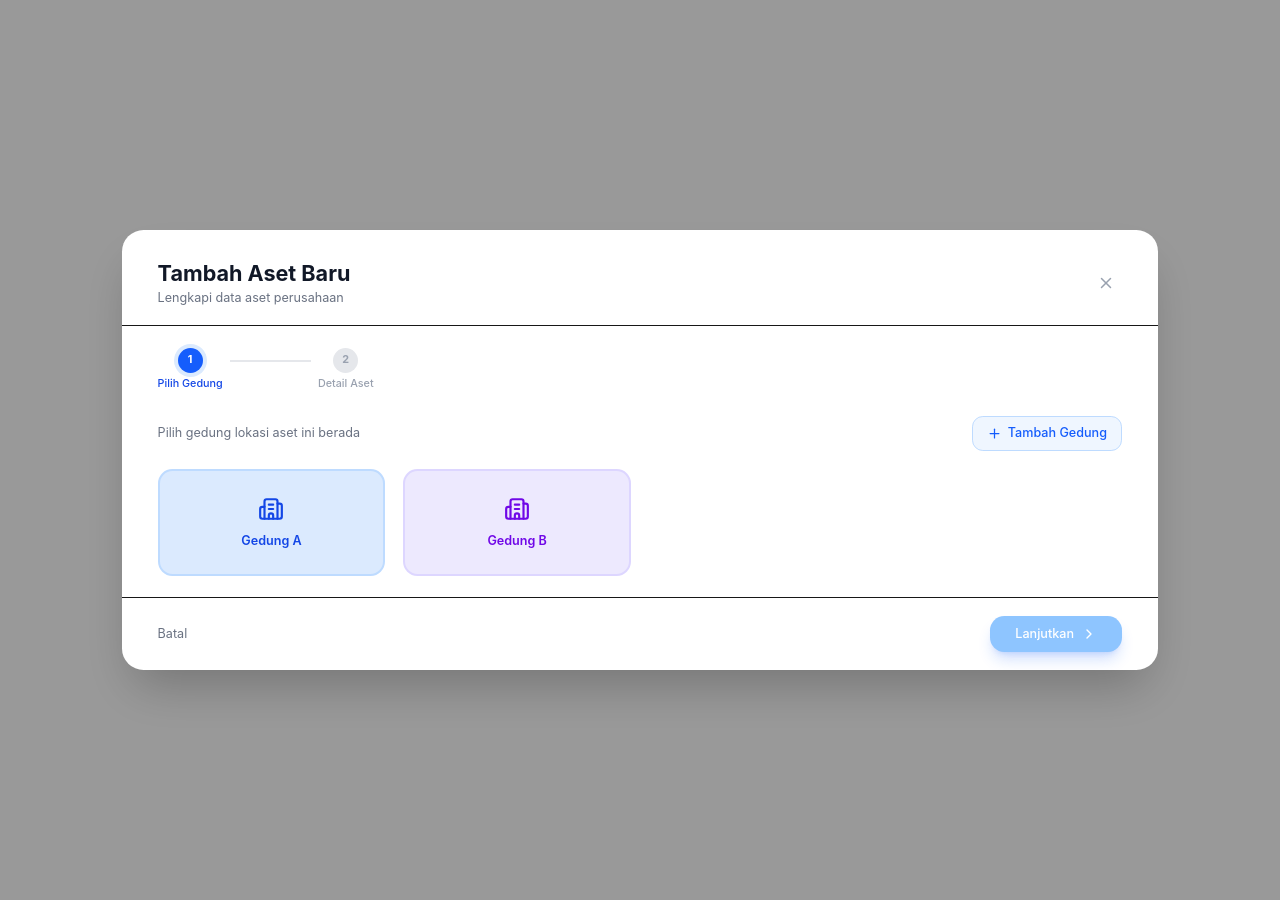
Test case: AddAssetModal — cascading classification dropdowns › disables downstream dropdowns until their parent selection is made
Expected: the text "Gedung A" is shown, [241, 533, 302, 548]
Click the button "Gedung A".
click(271, 522)  # box [158, 469, 385, 576]
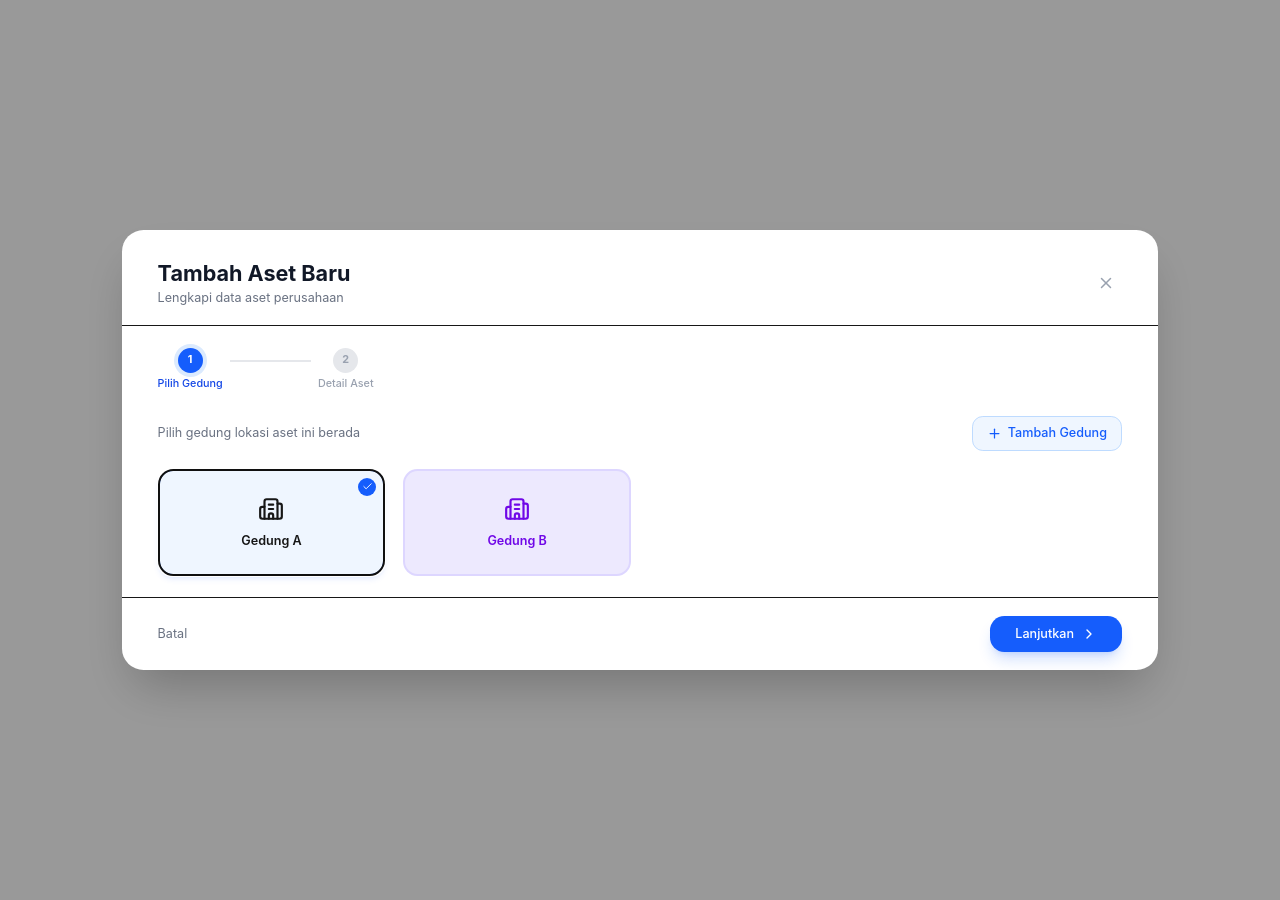
Click the button "Lanjutkan".
click(1056, 634)  # box [990, 616, 1122, 652]
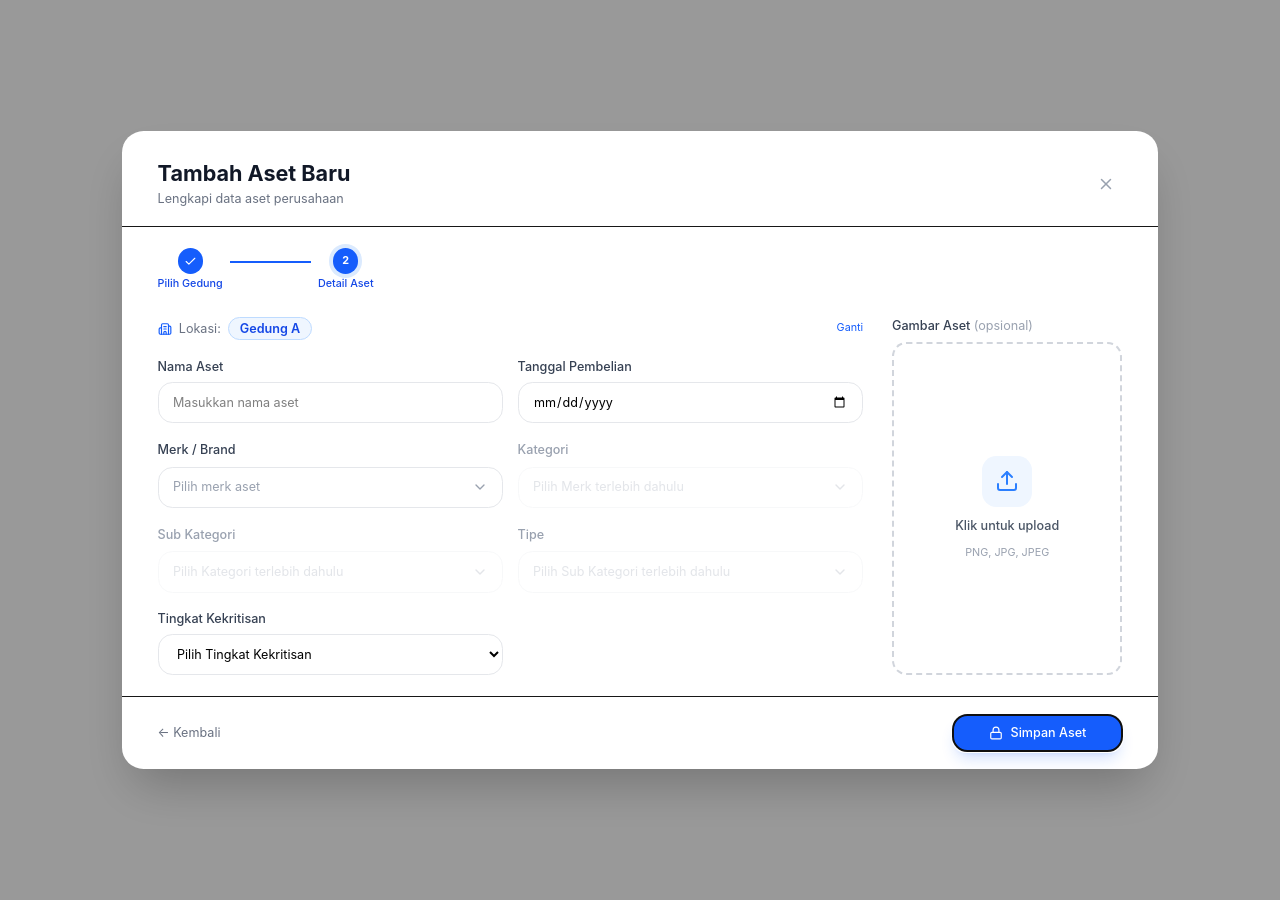
Result: the text "Nama Aset" is shown at [158, 359, 223, 374]
Result: the button "Pilih Sub Kategori terlebih dahulu" is disabled at [518, 551, 863, 593]
Click the button "Pilih merk aset".
click(217, 487)  # box [158, 467, 503, 508]
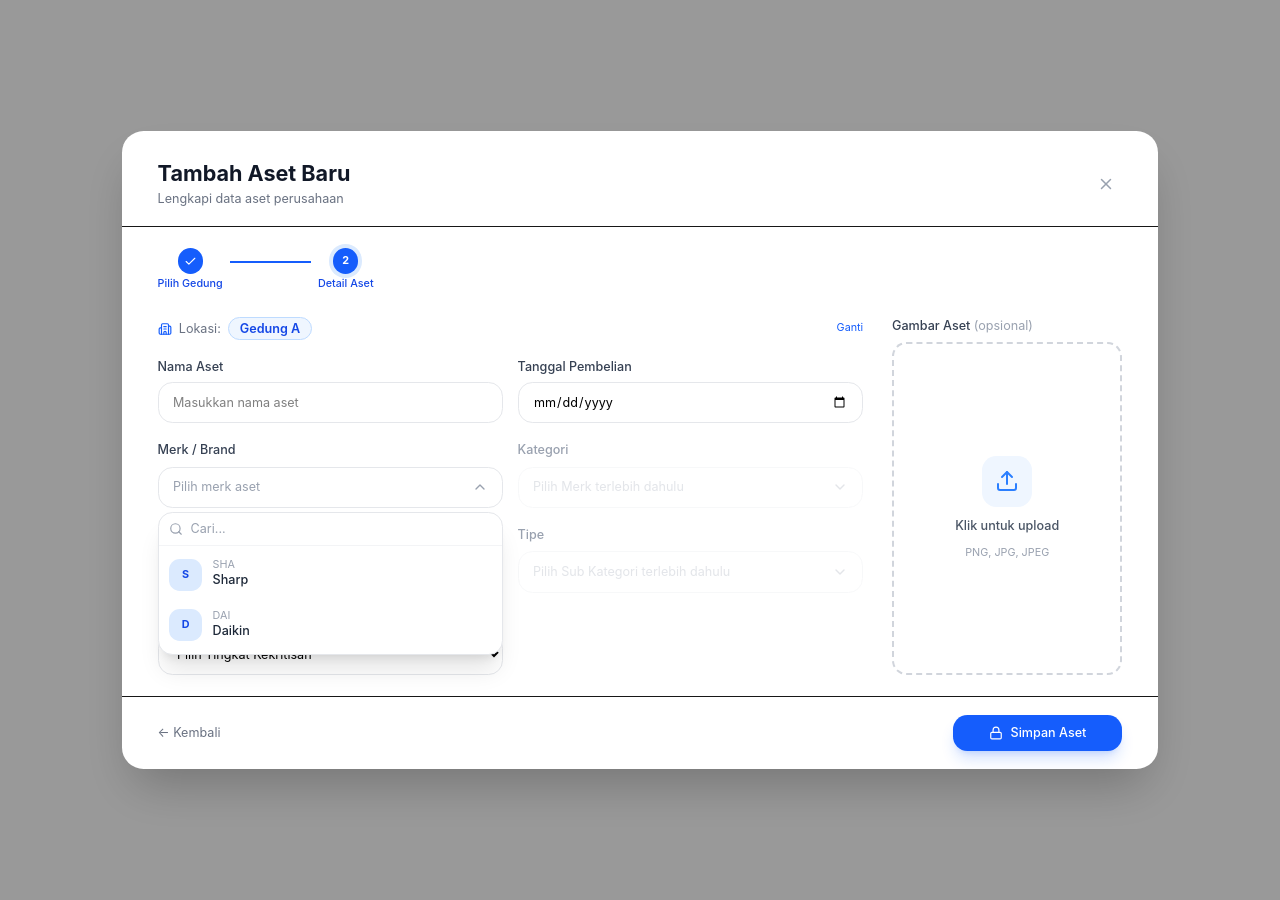
Click the button "S SHA Sharp".
click(186, 575)  # box [159, 550, 502, 600]
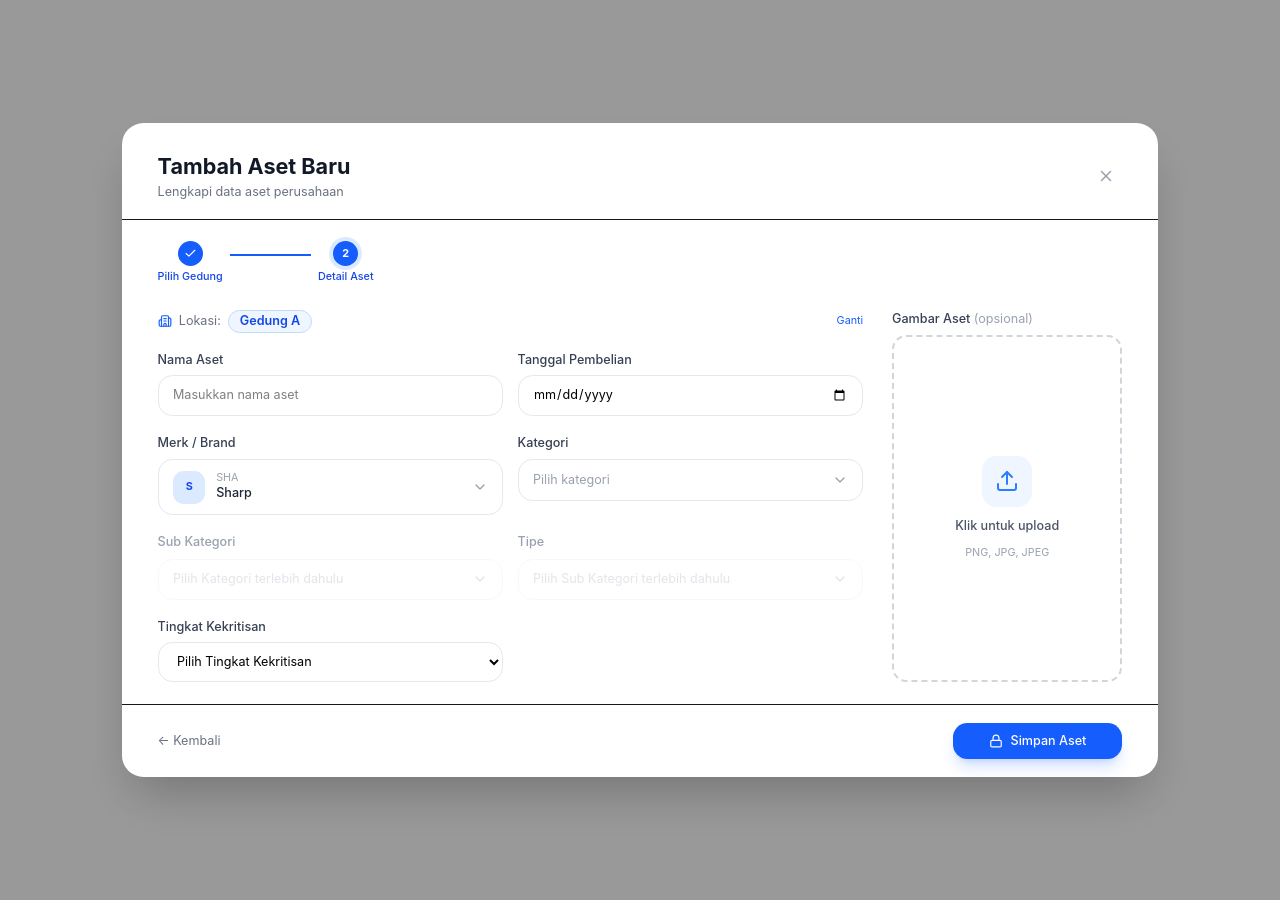
Result: the button "Pilih Kategori terlebih dahulu" is disabled at [158, 558, 503, 600]
Result: the button "Pilih kategori" is enabled at [518, 459, 863, 501]
